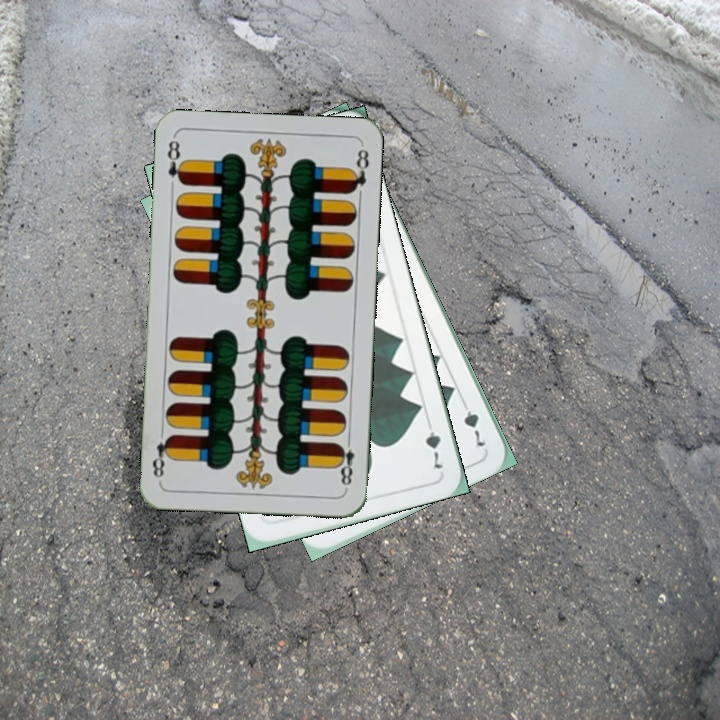E8: (333, 432, 357, 491), (163, 134, 188, 187)
G7: (457, 395, 489, 450), (421, 414, 449, 471)
